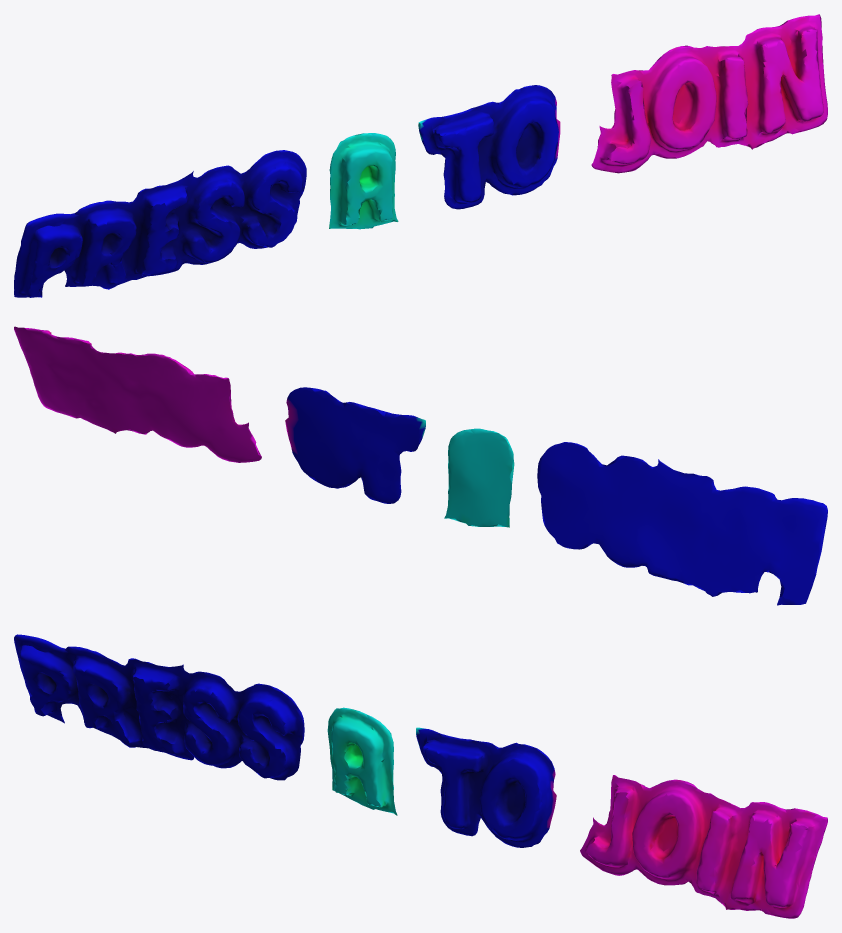
File: UI_Start.fbx
The picture shows the model from 3 angles, top to bottom: view 1: azimuth 30°, elevation 25°; view 2: azimuth 150°, elevation 25°; view 3: azimuth 330°, elevation 25°; orthographic projection.
Parts seen in each view (by area): view 1: UI_Start; view 2: UI_Start; view 3: UI_Start.
Boxes of the visible parts, x1=… form: UI_Start: x1=14, y1=14, x2=827, y2=297; UI_Start: x1=14, y1=326, x2=827, y2=605; UI_Start: x1=14, y1=634, x2=827, y2=918.
Bounding box in the file's own units: 8.03 × 1.07 × 0.4244.
